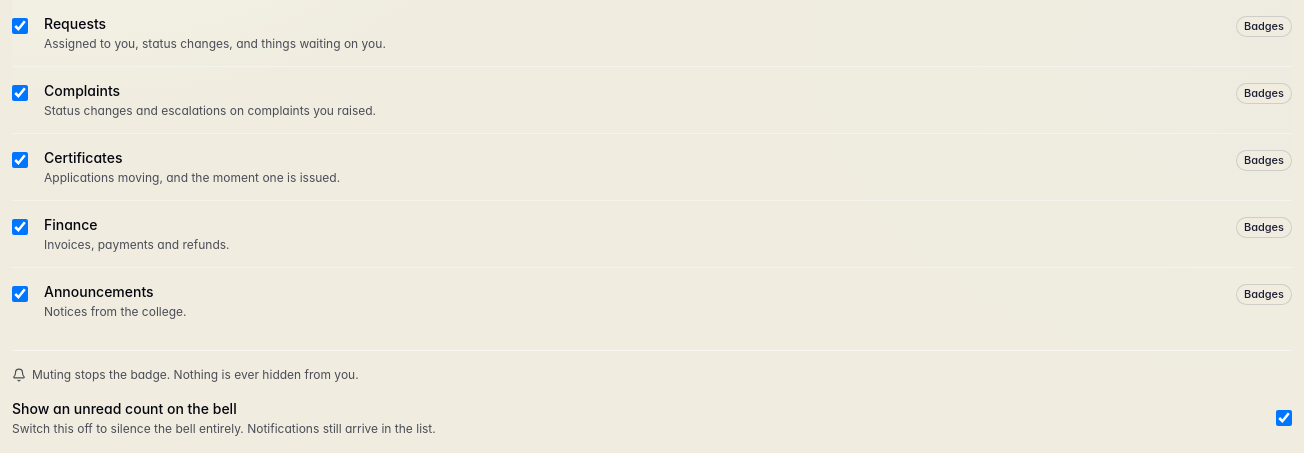
Test: notification preferences › saves immediately on change, with no Save button to forget
Click the checkbox labelled "Finance" at (20, 227), box [12,219,28,235]
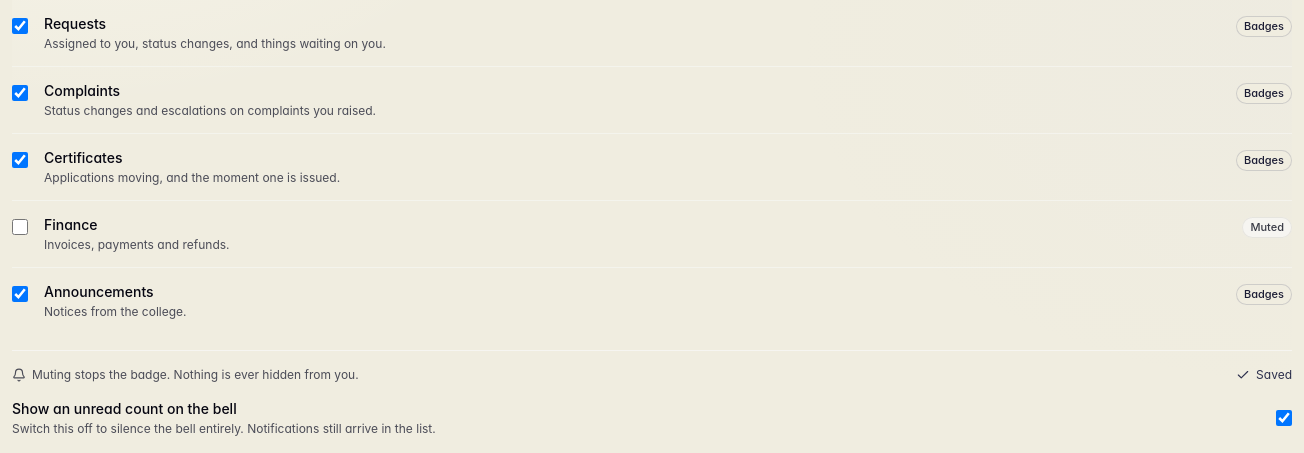
Now the text "Saved" is shown, box [1236,367,1292,383]
